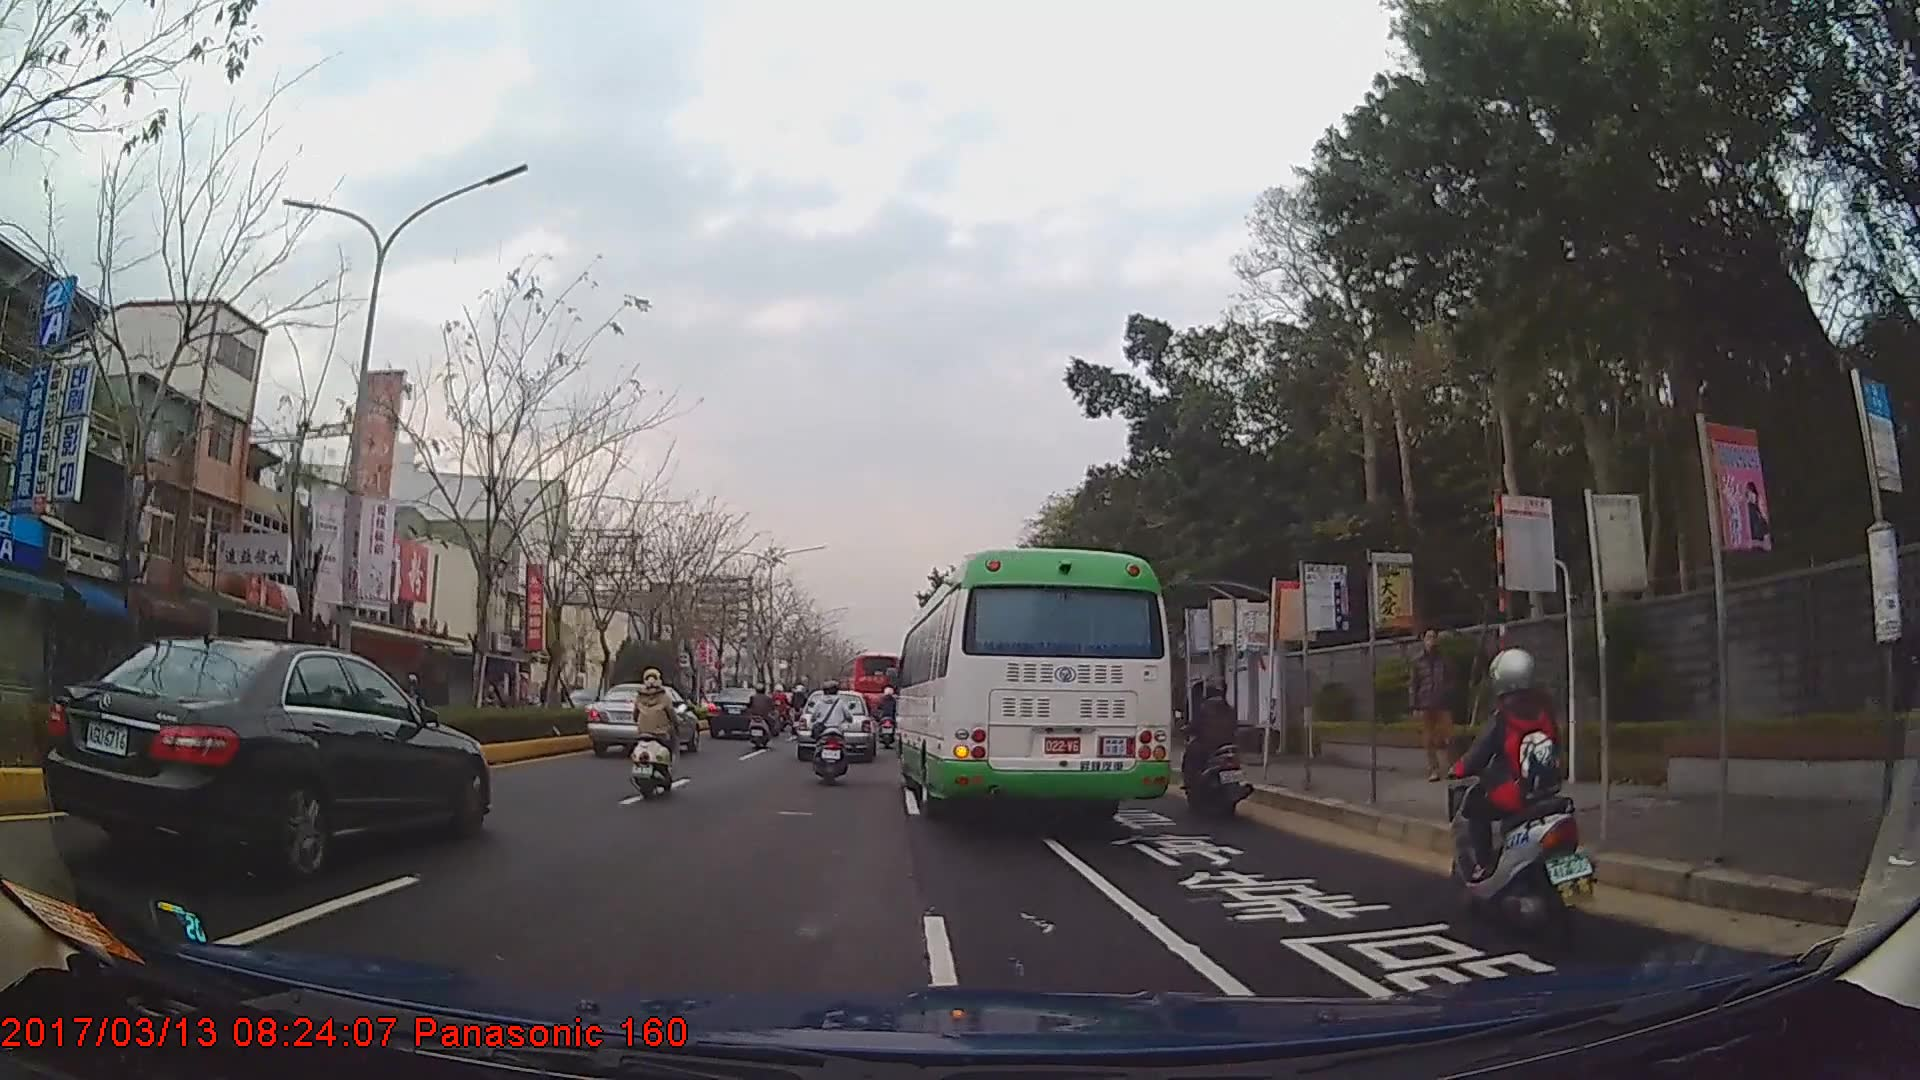pedestrian: (1410, 625, 1461, 782)
rider: (1442, 647, 1596, 936), (1179, 681, 1251, 820), (627, 671, 678, 799), (808, 680, 855, 782), (748, 683, 778, 752), (877, 688, 903, 735), (790, 685, 810, 724)
vehicle: (40, 633, 492, 882), (890, 545, 1172, 826), (585, 681, 699, 754), (797, 689, 878, 761), (840, 650, 902, 715), (706, 684, 775, 740)
